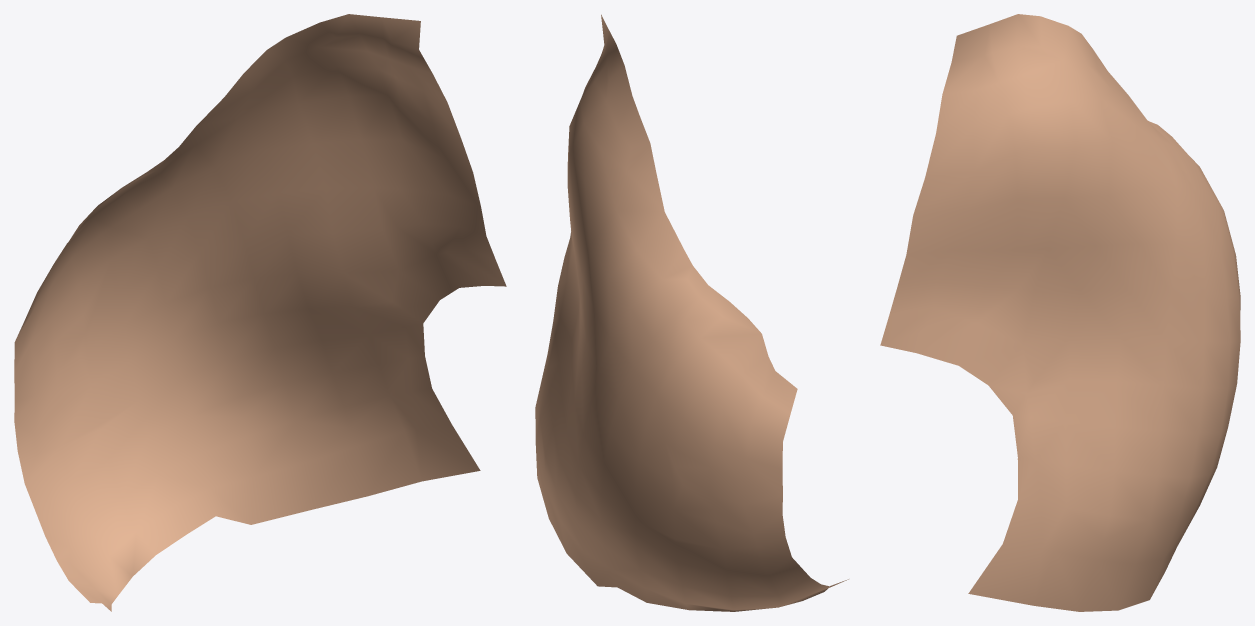
File: gluteal-region-l.glb
The picture shows the model from 3 angles, left to right: view 1: azimuth 30°, elevation 25°; view 2: azimuth 150°, elevation 25°; view 3: azimuth 270°, elevation 25°; orthographic projection. The views are drawn at different scales.
Parts seen in each view (by area): view 1: Gluteal region.l; view 2: Gluteal region.l; view 3: Gluteal region.l.
Boxes of the visible parts, box(x1,y1,x2,y2) form: Gluteal region.l: box(14, 14, 506, 611); Gluteal region.l: box(535, 14, 848, 611); Gluteal region.l: box(880, 14, 1240, 611).
Bounding box in the file's own units: 0.1706 × 0.2453 × 0.1298.
